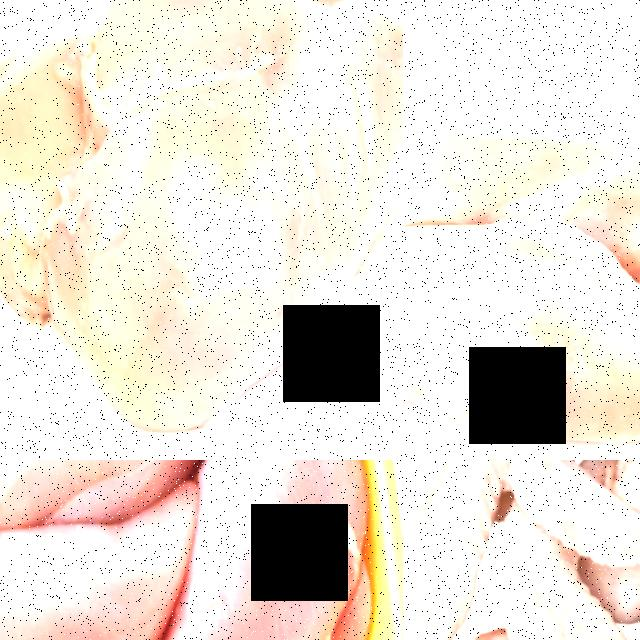chicken breast: (0, 0, 403, 460), (403, 211, 640, 460), (403, 59, 640, 250), (192, 460, 371, 640), (0, 492, 188, 640)
chicken wing: (403, 460, 640, 640)
